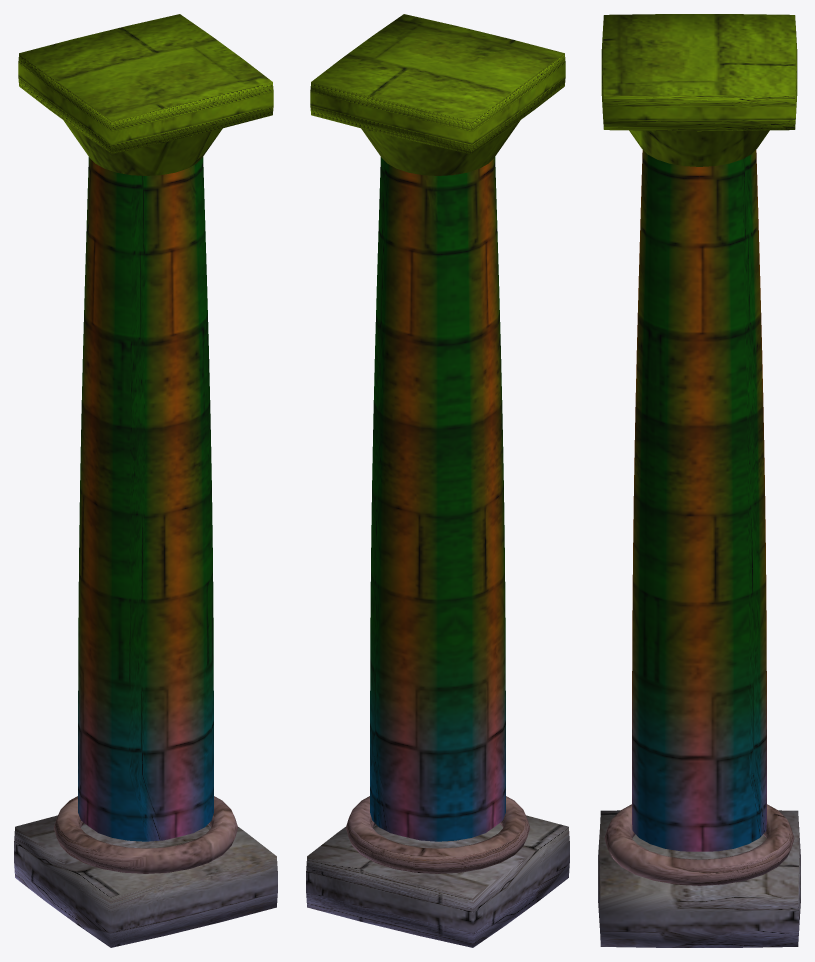
Rendered from env_arch_romancolumn_4m6_lod0-lite-c266d59abc46.glb.
3 renders of one model, left to right at view 1: azimuth 30°, elevation 25°; view 2: azimuth 150°, elevation 25°; view 3: azimuth 270°, elevation 25°, orthographic. The views are drawn at different scales.
Visible parts, largest first — view 1: ENV_ARCH_RomanColumn_4m6_LOD0; view 2: ENV_ARCH_RomanColumn_4m6_LOD0; view 3: ENV_ARCH_RomanColumn_4m6_LOD0.
Part boxes in pixels (bbox=[...]): ENV_ARCH_RomanColumn_4m6_LOD0: bbox=[14, 14, 277, 947]; ENV_ARCH_RomanColumn_4m6_LOD0: bbox=[306, 14, 569, 947]; ENV_ARCH_RomanColumn_4m6_LOD0: bbox=[598, 14, 800, 947].
Bounding box in the file's own units: 0.957 × 4.45 × 0.957.
Materials: 1 (1 with a texture image).
